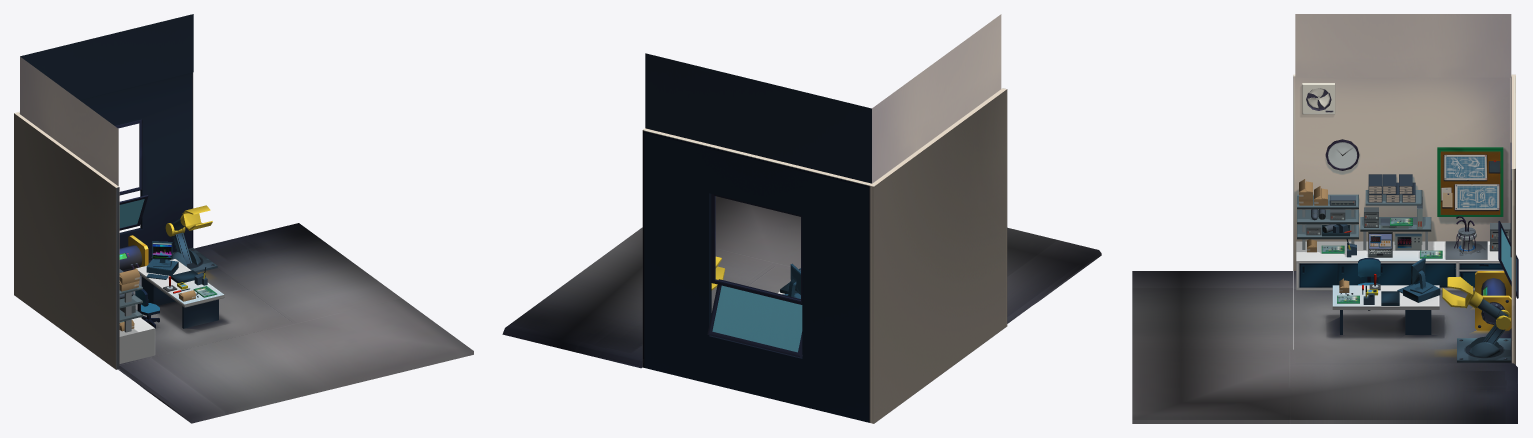
Rendered from Tx_Interior_Work_Factory_2017070713.fbx.
The picture shows the model from 3 angles, left to right: view 1: azimuth 30°, elevation 25°; view 2: azimuth 150°, elevation 25°; view 3: azimuth 270°, elevation 25°; orthographic projection. The views are drawn at different scales.
Visible parts, largest first — view 1: Expand, structure, props, Tx_interior_factory_model_201706013_combined:Tx_interior_fac (×2); view 2: structure, Expand; view 3: structure, Expand, Tx_interior_factory_model_201706013_combined:Tx_interior_fac (×10), props.
Part boxes in pixels (<box>): Expand: <box>20,14,473,423</box>; structure: <box>14,72,291,369</box>; props: <box>119,267,217,331</box>; Tx_interior_factory_model_201706013_combined:Tx_interior_fac (×2): <box>119,205,212,270</box>; structure: <box>642,88,1007,423</box>; Expand: <box>502,14,1101,368</box>; structure: <box>1293,74,1518,364</box>; Expand: <box>1132,14,1517,423</box>; Tx_interior_factory_model_201706013_combined:Tx_interior_fac (×10): <box>1395,227,1511,362</box>; props: <box>1299,174,1510,304</box>.
Size of the model in its own units: 36.41 by 29.69 by 39.4.
Materials: 4 (4 with a texture image).
